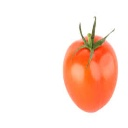tomato: (62, 35, 117, 112)
